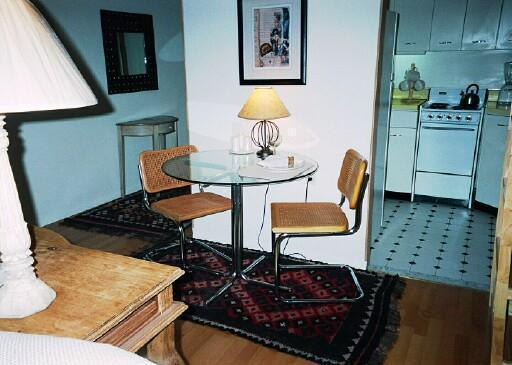Electrodomestico: (421, 108, 476, 204)
